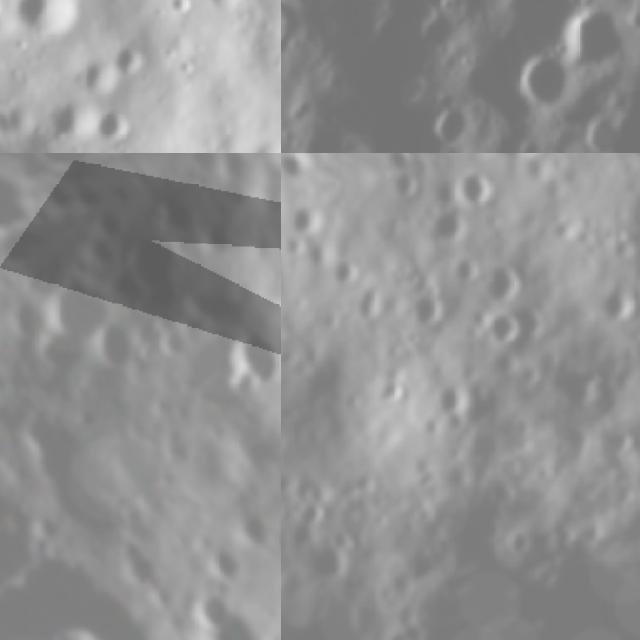crater: (164, 153, 281, 582), (96, 204, 214, 324), (549, 0, 635, 79), (502, 41, 582, 123), (216, 318, 281, 404), (603, 153, 640, 300), (24, 317, 97, 391), (81, 312, 153, 386), (223, 492, 281, 566), (8, 0, 97, 46), (0, 291, 61, 357), (40, 90, 106, 150), (419, 91, 482, 153), (194, 540, 257, 602), (475, 251, 534, 309), (395, 281, 454, 339), (174, 608, 280, 640), (418, 204, 474, 256), (472, 304, 526, 356), (451, 160, 503, 214), (428, 369, 479, 423), (85, 203, 136, 255), (575, 108, 632, 153), (381, 167, 432, 211), (108, 35, 154, 82), (256, 273, 281, 359), (592, 420, 639, 464), (281, 197, 322, 246), (94, 98, 138, 143), (440, 252, 484, 296), (324, 250, 371, 290), (371, 369, 412, 412), (244, 132, 281, 153)
